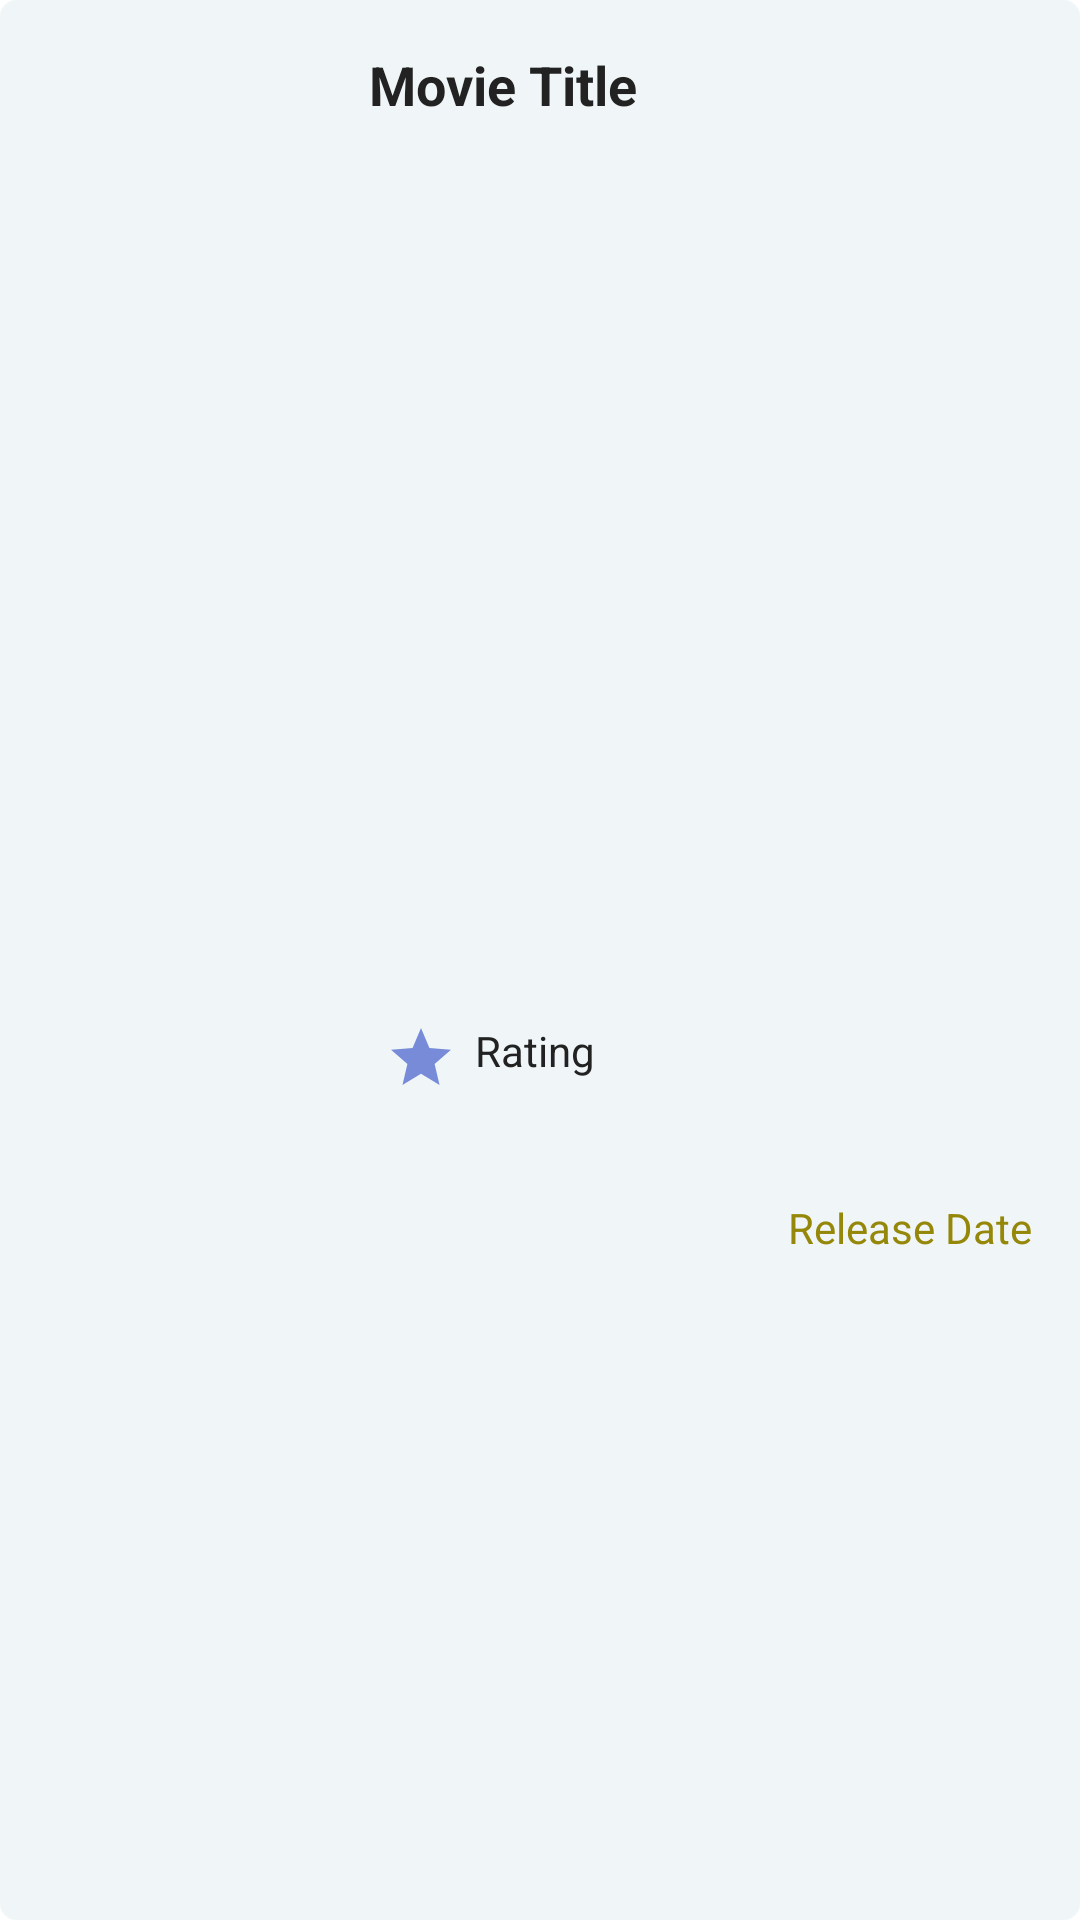

Locate icon controls on the screen. Image size 1080w x 1920h, boxes as region(x1, y1, x2, y2).
star: region(391, 1028, 451, 1085)
